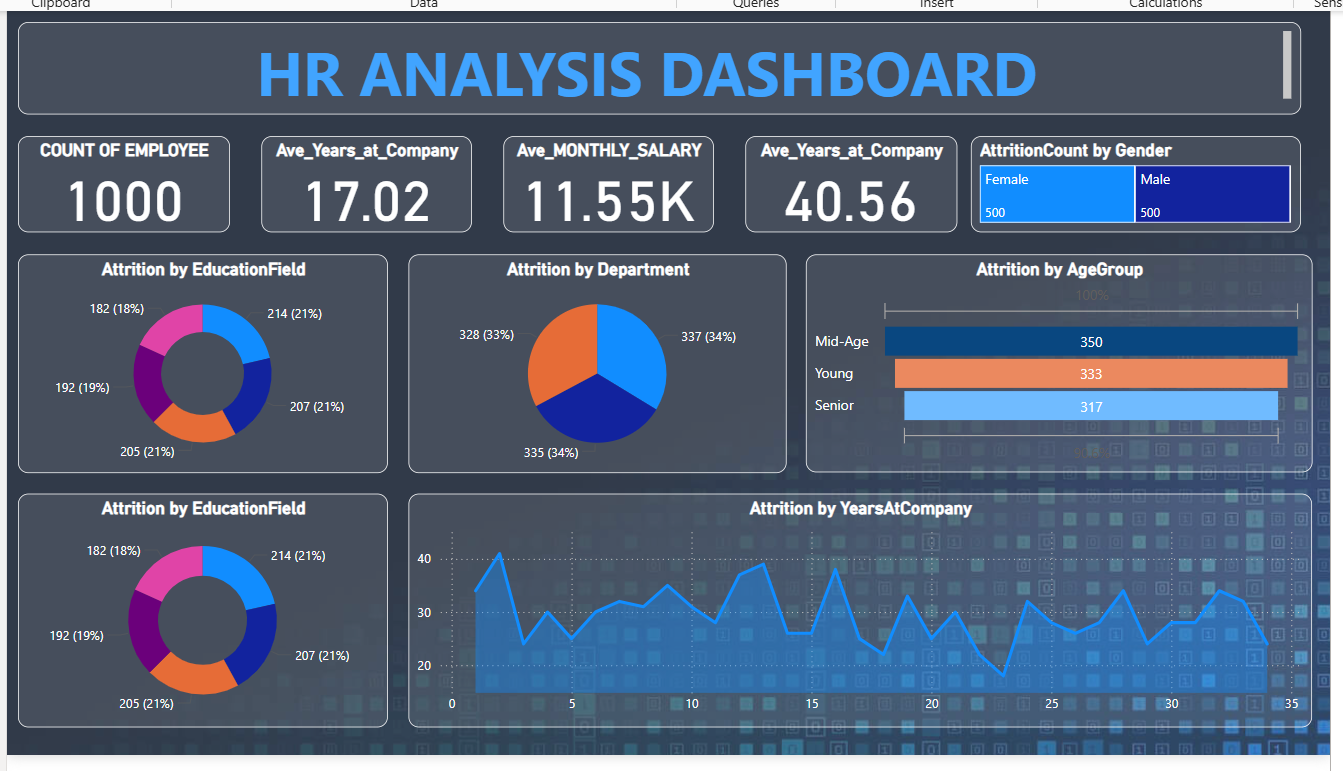

The dashboard page shown, as its layout file describes it:
{"tool":"powerbi","page":{"name":"Page 1","canvas":[1280,720],"ordinal":0},"visuals":[{"type":"donutChart","title":"Attrition by EducationField","fields":{"Y":["CountNonNull(Sheet1.Attrition)"],"Category":["Sheet1.EducationField"]},"box":[10.6,235.5,357.9,211.5],"z":0},{"type":"treemap","title":"AttritionCount by Gender","fields":{"Group":["Sheet1.Gender"],"Values":["CountNonNull(Sheet1.AttritionCount)"]},"box":[932.6,121.1,319.3,93.1],"z":1000},{"type":"card","title":"COUNT OF EMPLOYEE","fields":{"Values":["CountNonNull(Sheet1.EmployeeID)"]},"box":[10.6,121.1,204.9,93.1],"z":2000},{"type":"card","title":"Ave_Years_at_Company","fields":{"Values":["Avg(Sheet1.Age)"]},"box":[714.4,121.1,204.9,93.1],"z":3000},{"type":"card","title":"Ave_MONTHLY_SALARY","fields":{"Values":["Avg(Sheet1.MonthlyIncome)"]},"box":[480.2,121.1,203.5,93.1],"z":4000},{"type":"card","title":"Ave_Years_at_Company","fields":{"Values":["Avg(Sheet1.YearsAtCompany)"]},"box":[246.1,121.1,203.5,93.1],"z":5000},{"type":"donutChart","title":"Attrition by EducationField","fields":{"Y":["CountNonNull(Sheet1.Attrition)"],"Category":["Sheet1.EducationField"]},"box":[10.6,466.9,357.9,226.2],"z":6000},{"type":"funnel","title":"Attrition by AgeGroup","fields":{"Category":["Sheet1.AgeGroup"],"Y":["CountNonNull(Sheet1.AttritionCount)"]},"box":[772.9,236,489.9,211.2],"z":7000},{"type":"pieChart","title":"Attrition by Department","fields":{"Y":["CountNonNull(Sheet1.Attrition)"],"Category":["Sheet1.Department"]},"box":[388.5,235.5,365.8,211.5],"z":8000},{"type":"stackedAreaChart","title":"Attrition by YearsAtCompany","fields":{"Category":["Sheet1.YearsAtCompany"],"Y":["CountNonNull(Sheet1.Attrition)"]},"box":[388.5,466.9,874,226.2],"z":9000},{"type":"textbox","box":[10.6,10.6,1241.2,89.1],"z":10000}]}

Visuals, with their boxes in screenshot pixels (x1, y1, x2, y2):
"Attrition by EducationField" donutChart: Rect(4, 256, 388, 483)
"AttritionCount by Gender" treemap: Rect(993, 133, 1336, 233)
"COUNT OF EMPLOYEE" card: Rect(4, 133, 224, 233)
"Ave_Years_at_Company" card: Rect(759, 133, 979, 233)
"Ave_MONTHLY_SALARY" card: Rect(508, 133, 726, 233)
"Ave_Years_at_Company" card: Rect(257, 133, 475, 233)
"Attrition by EducationField" donutChart: Rect(4, 504, 388, 747)
"Attrition by AgeGroup" funnel: Rect(822, 257, 1342, 483)
"Attrition by Department" pieChart: Rect(410, 256, 802, 483)
"Attrition by YearsAtCompany" stackedAreaChart: Rect(410, 504, 1342, 747)
textbox: Rect(4, 15, 1336, 110)
